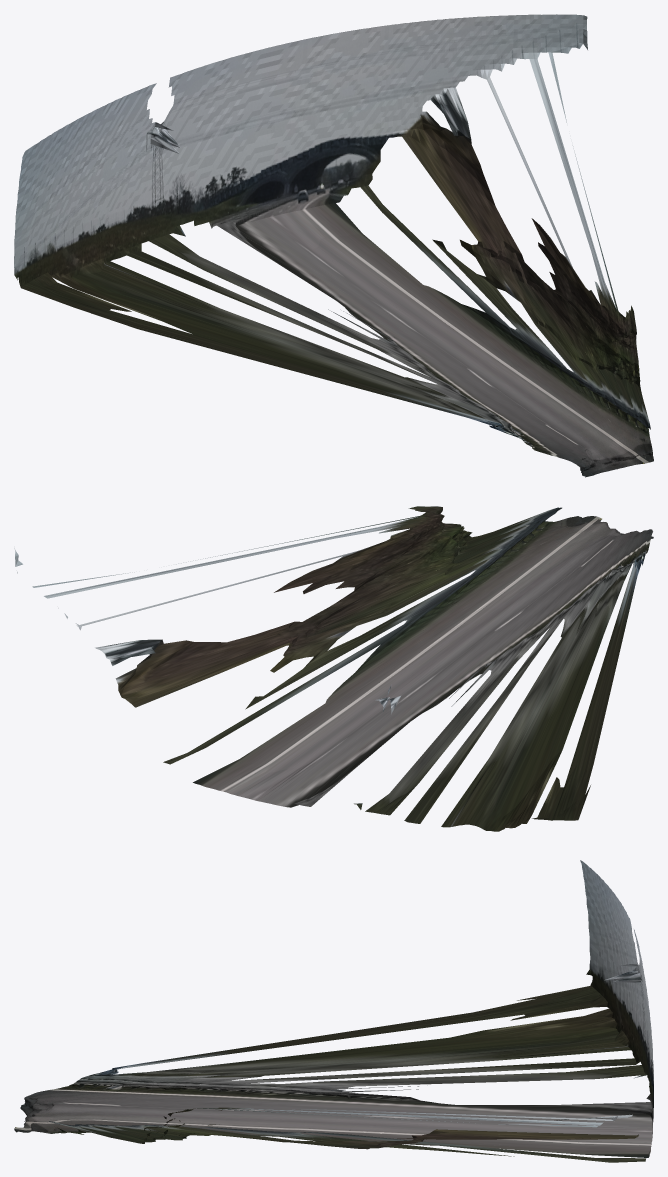
3 views of the same model, one above another, from view 1: azimuth 30°, elevation 25°; view 2: azimuth 150°, elevation 25°; view 3: azimuth 270°, elevation 25° (orthographic). The views are drawn at different scales.
Visible parts, largest first — view 1: defaultobject; view 2: defaultobject; view 3: defaultobject.
Boxes of the visible parts, x1=… form: defaultobject: x1=14, y1=14, x2=653, y2=477; defaultobject: x1=14, y1=506, x2=653, y2=831; defaultobject: x1=14, y1=860, x2=653, y2=1162.
Size of the model in its own units: 40.89 by 12.21 by 44.8.
1 material, 1 textured.
